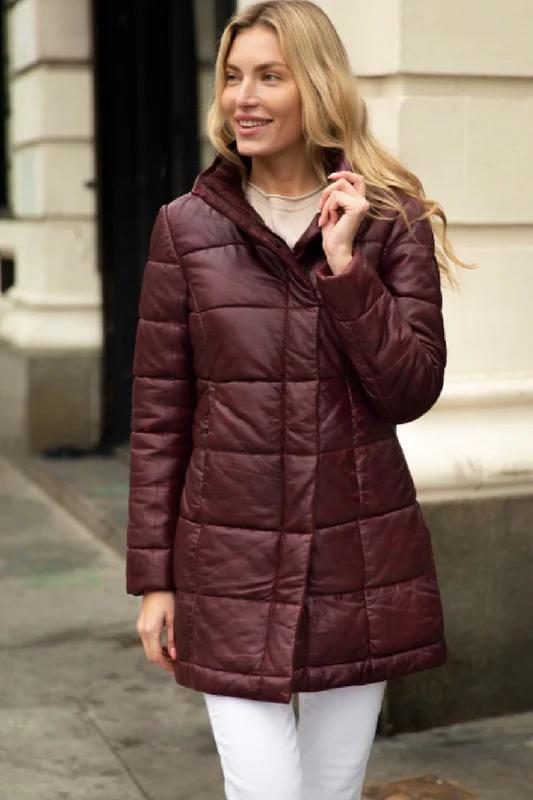coat: (121, 132, 451, 707)
trousers: (204, 675, 390, 800)
